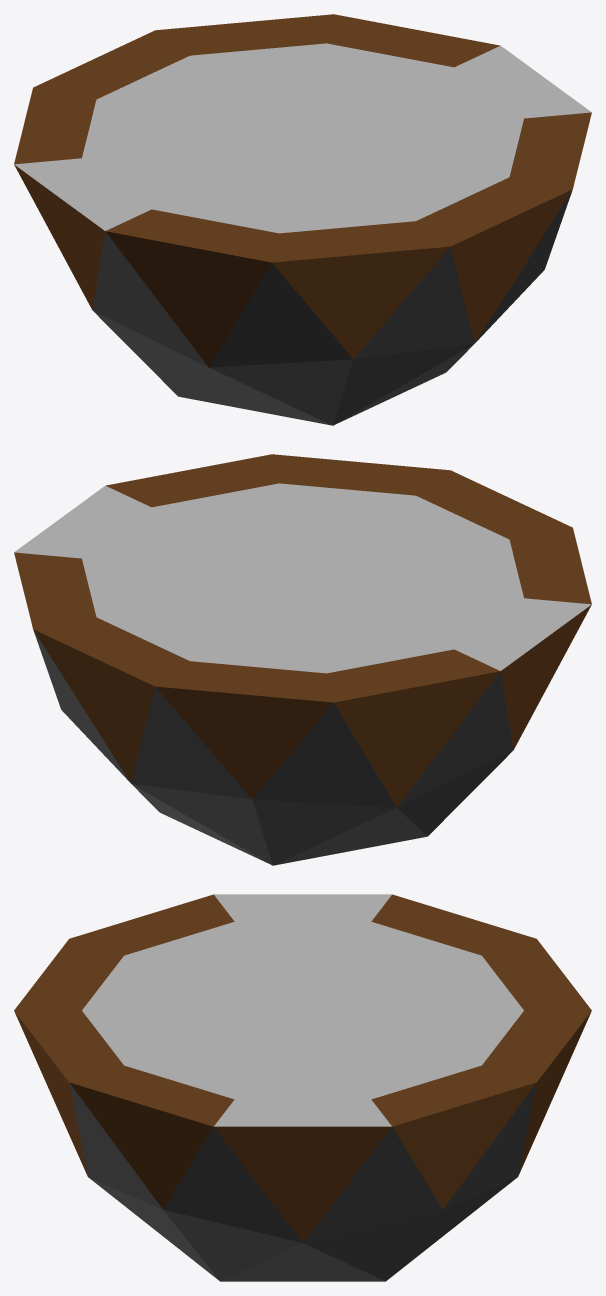
Rendered from BuildingPlatform.fbx.
3 views of the same model, one above another, from view 1: azimuth 30°, elevation 25°; view 2: azimuth 150°, elevation 25°; view 3: azimuth 270°, elevation 25° (orthographic). The views are drawn at different scales.
Visible parts, largest first — view 1: BuildingPlatform; view 2: BuildingPlatform; view 3: BuildingPlatform.
Boxes of the visible parts, <box> form: BuildingPlatform: <box>14,14,591,425</box>; BuildingPlatform: <box>14,454,591,865</box>; BuildingPlatform: <box>14,894,591,1281</box>.
Size of the model in its own units: 190 by 89.31 by 200.
